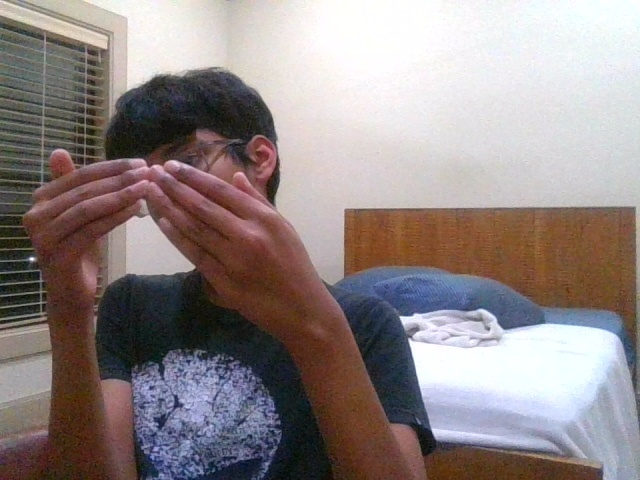thanks: (23, 149, 321, 326)
